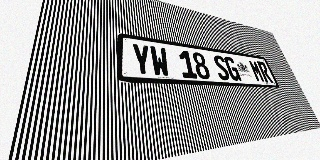1: (177, 50, 198, 79)
8: (191, 52, 211, 79)
G: (223, 56, 242, 81)
M: (248, 60, 265, 82)
R: (256, 61, 273, 83)
S: (212, 55, 231, 80)
W: (149, 46, 171, 77)
Y: (131, 43, 153, 76)
